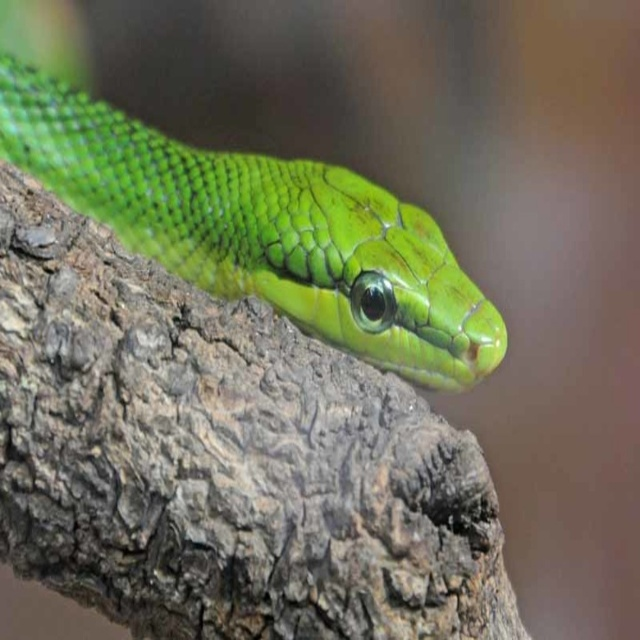Snake: (0, 2, 507, 437)
